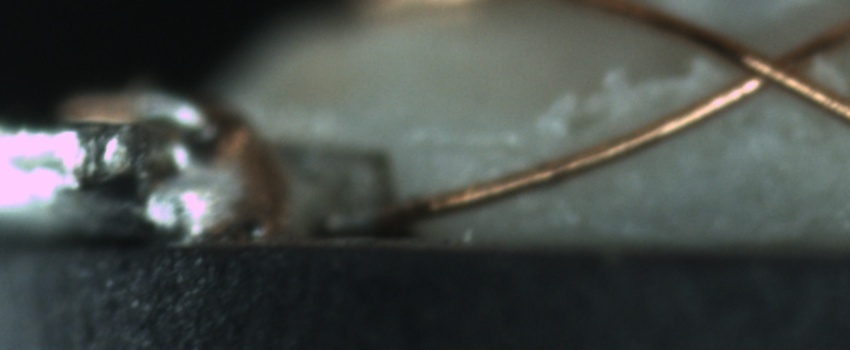CL: (700, 28, 835, 110)
DL: (427, 113, 523, 177)
TE: (56, 79, 149, 133)
